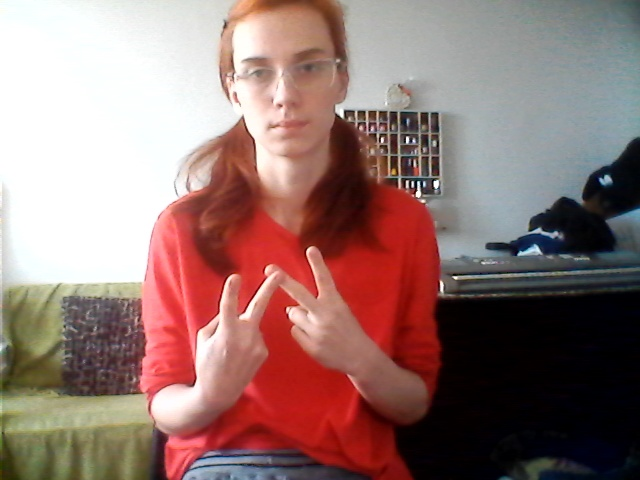w: (184, 248, 364, 386)
